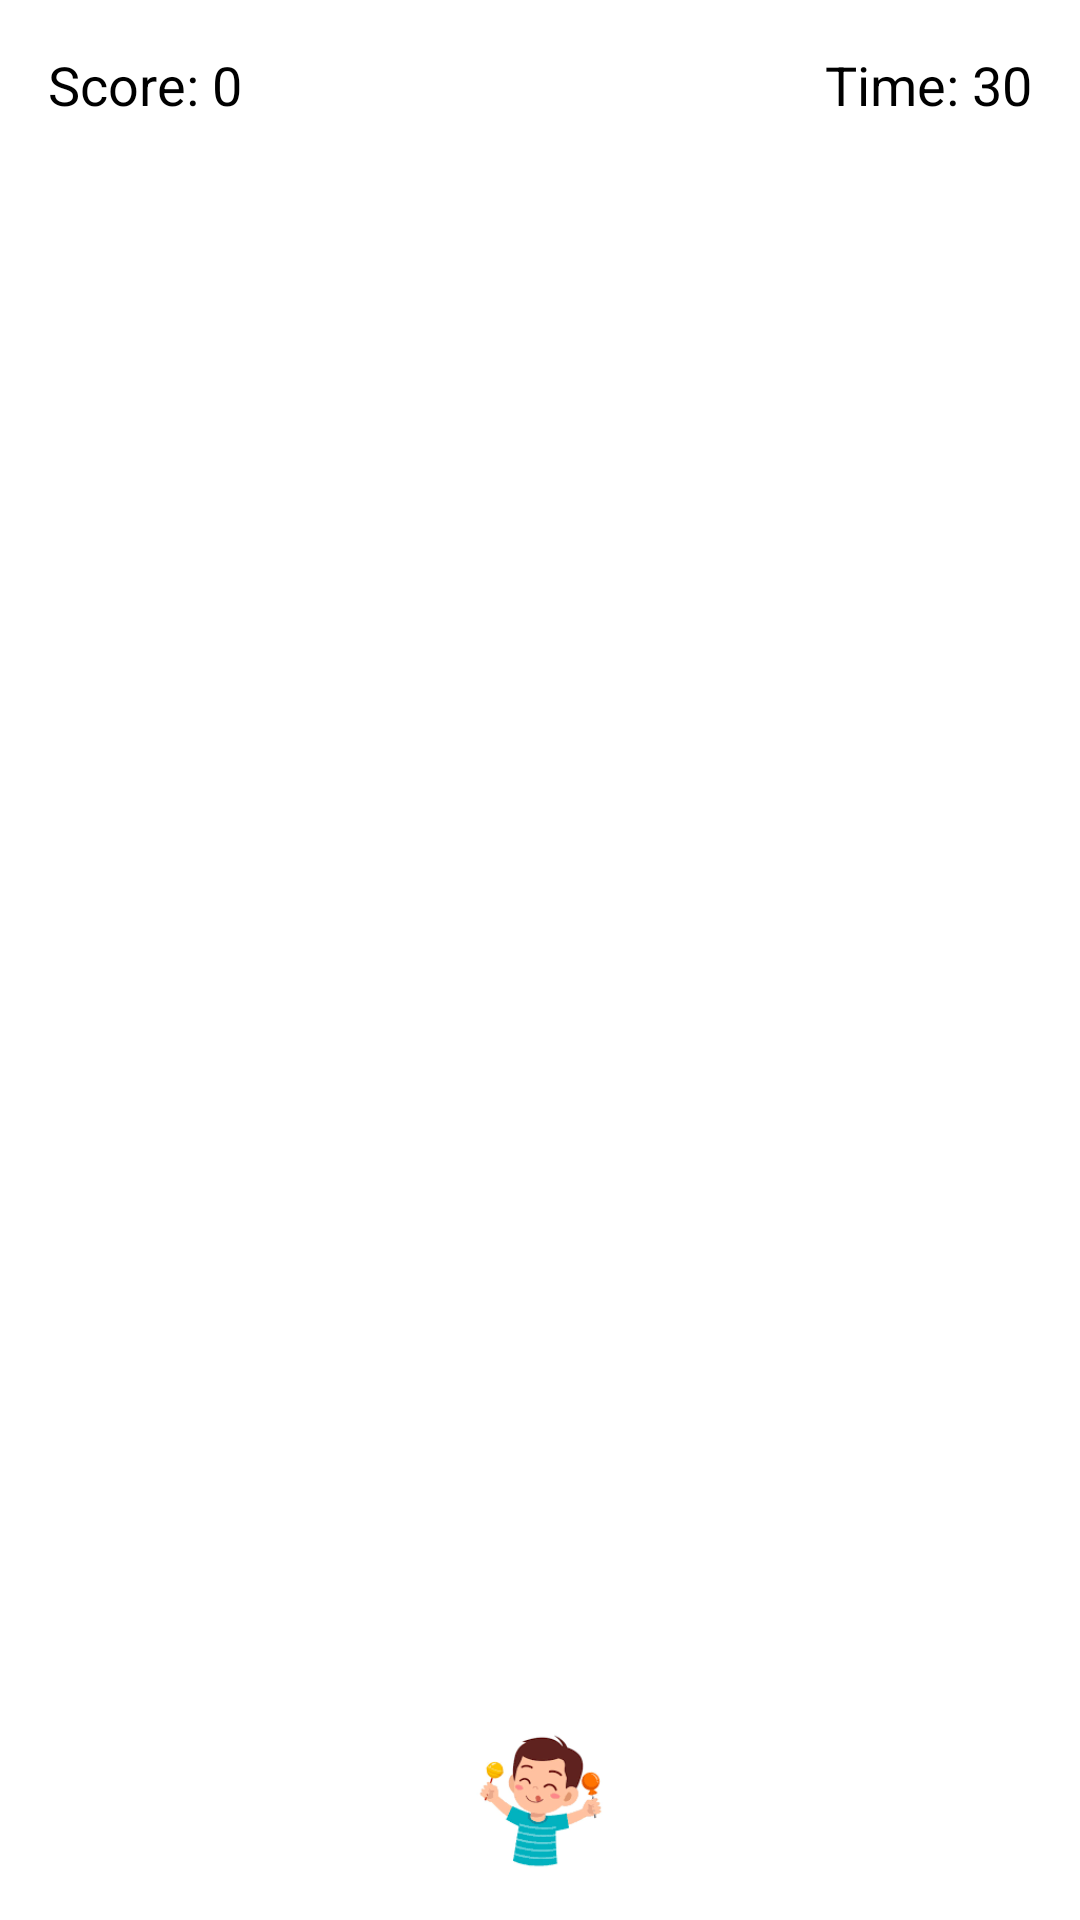

Screen size 1080*1920. Icon name, then its box in pixels as box=[x1, y1, x2, y2]:
eatting: box=[480, 1735, 601, 1867]
